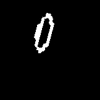chain: (34, 13, 53, 52)
